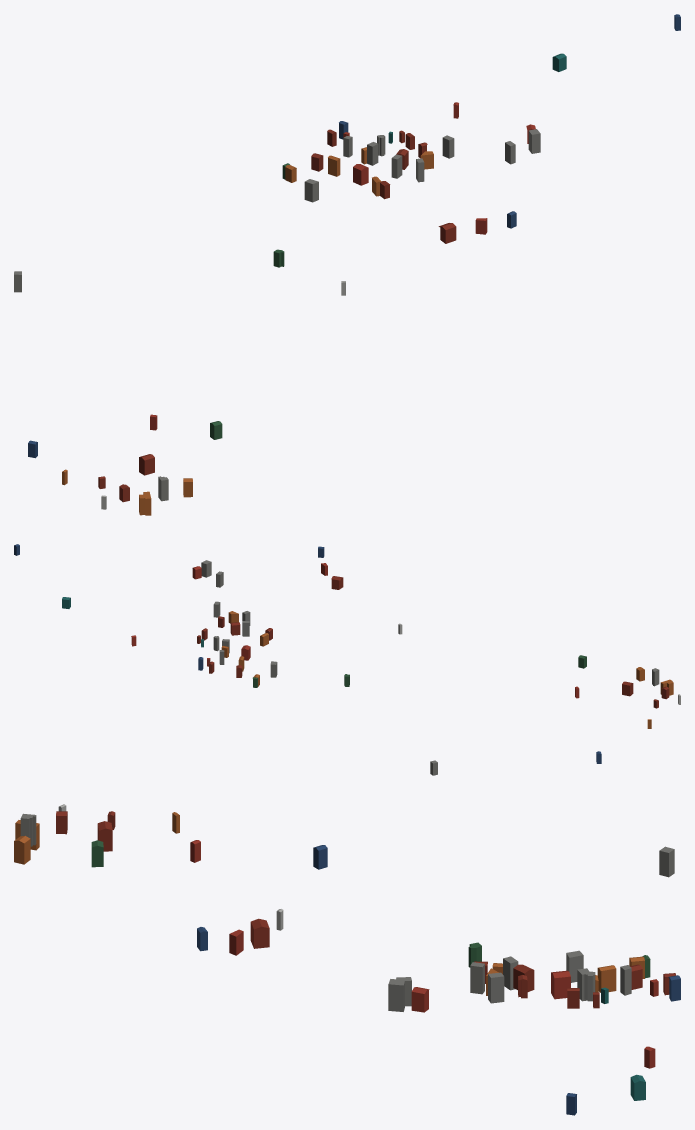
The model's file is near-15-27360-14859.8899c7b9.glb.
3 views of the same model, one above another, from view 1: azimuth 30°, elevation 25°; view 2: azimuth 150°, elevation 25°; view 3: azimuth 270°, elevation 25° (orthographic). The views are drawn at different scales.
Bounding box in the file's own units: 1003 × 246 × 546.
